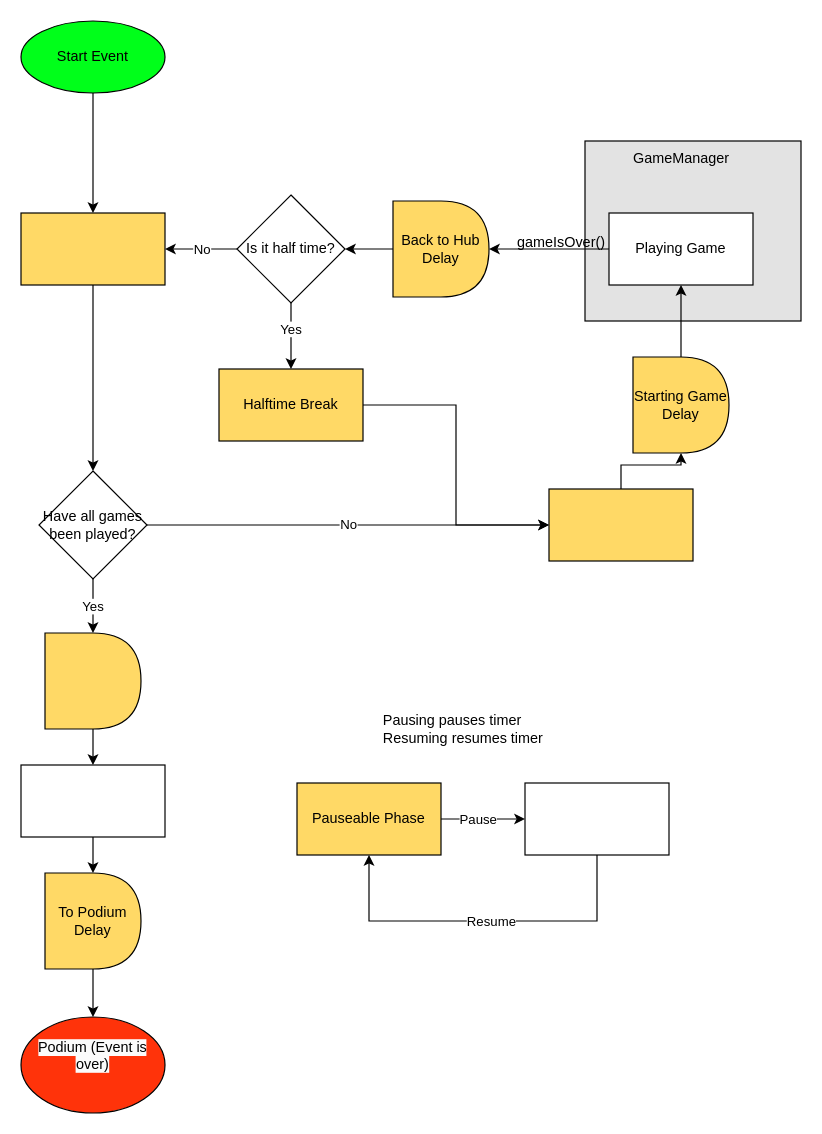
The diagram is 822 pixels wide and 1134 high, and some of its shapes have lost their labels. The shapes that lost their labels are listed below. From the top down, each one's centre as x and y in pixels, then its label:
At [92,248]: "Waiting in Hub".
At [620,524]: "Voting".
At [92,680]: "To Colossal Colosseum Delay".
At [92,800]: "Colossal Colosseum".
At [596,818]: "Paused".
